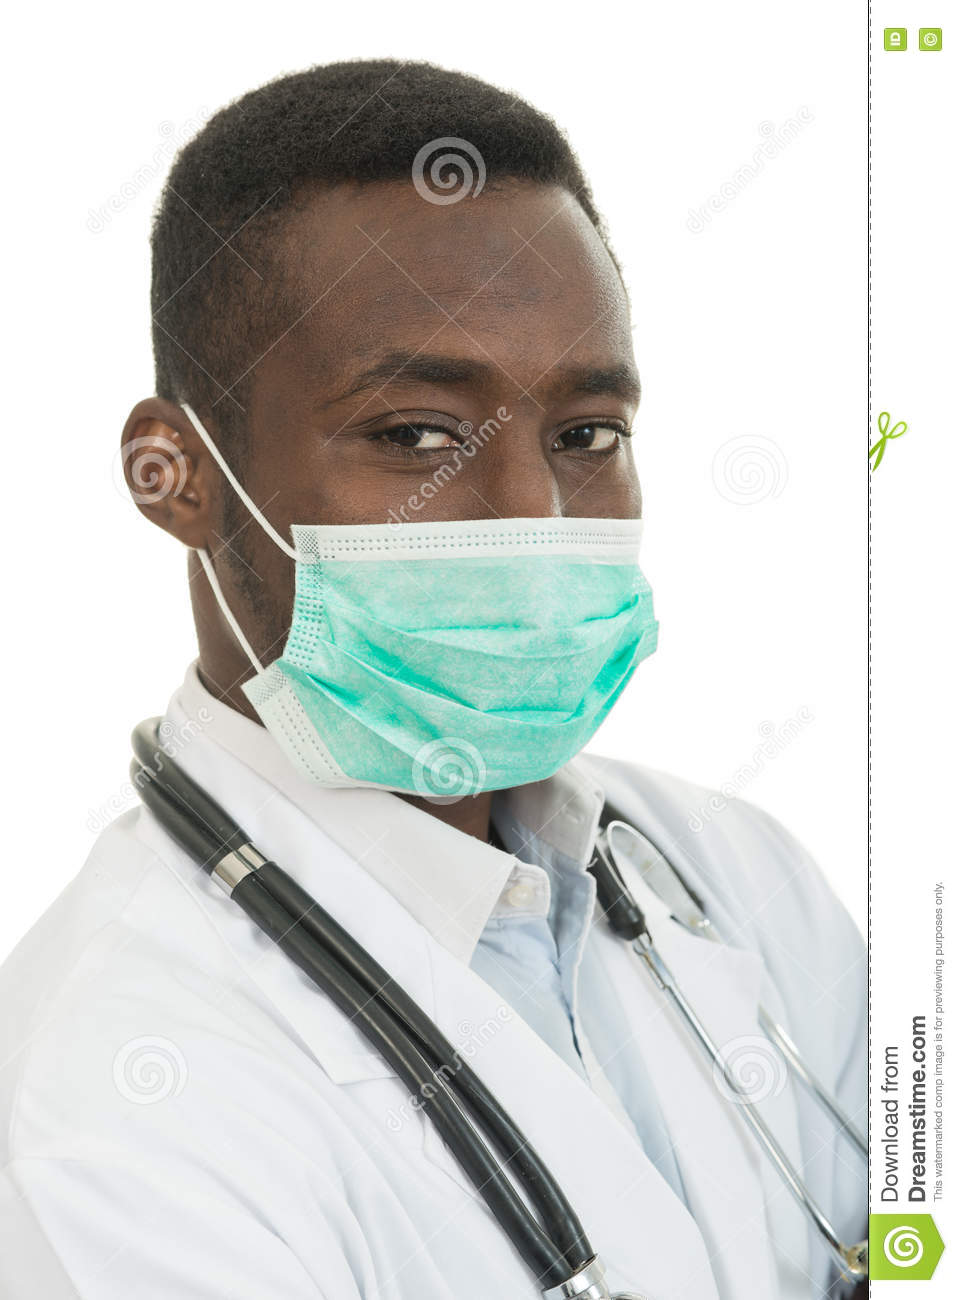mask: (251, 497, 671, 811)
